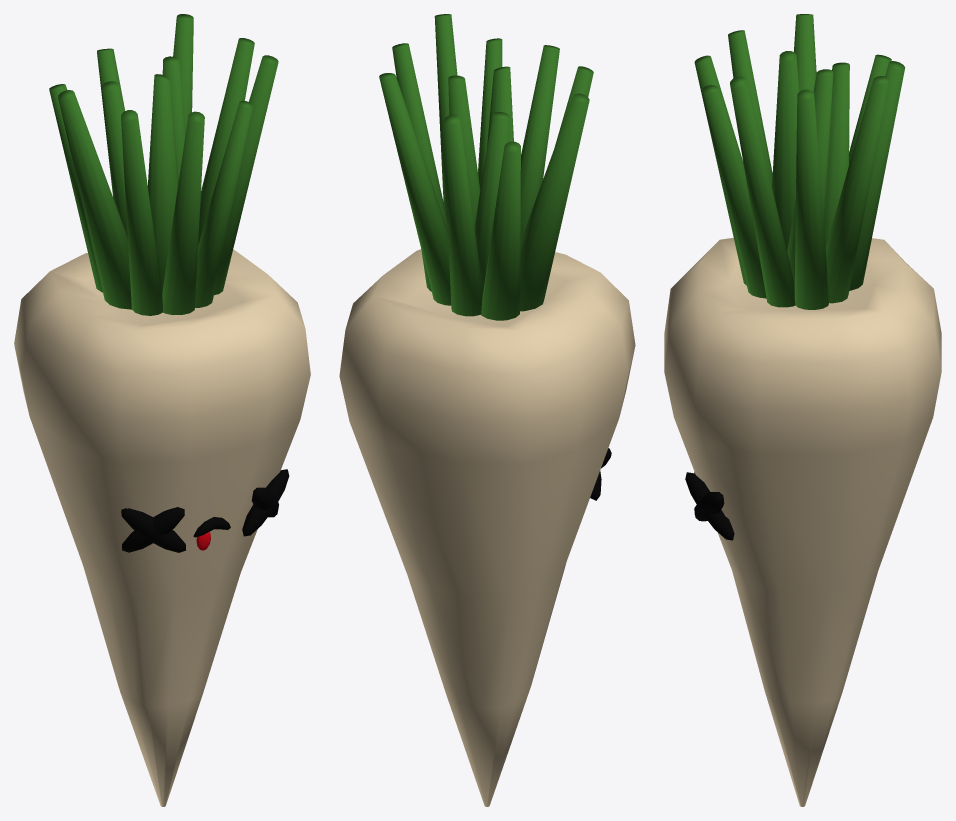
The model's file is Parsnip(dead).fbx.
3 views of the same model, side by side, from view 1: azimuth 30°, elevation 25°; view 2: azimuth 150°, elevation 25°; view 3: azimuth 270°, elevation 25° (orthographic).
Parts seen in each view (by area): view 1: Parsnip(dead); view 2: Parsnip(dead); view 3: Parsnip(dead).
Part boxes in pixels (left/top/right/bottom): Parsnip(dead): left=14, top=14, right=310, bottom=806; Parsnip(dead): left=339, top=14, right=635, bottom=806; Parsnip(dead): left=664, top=14, right=941, bottom=806.
Size of the model in its own units: 94.69 by 288 by 94.64.
